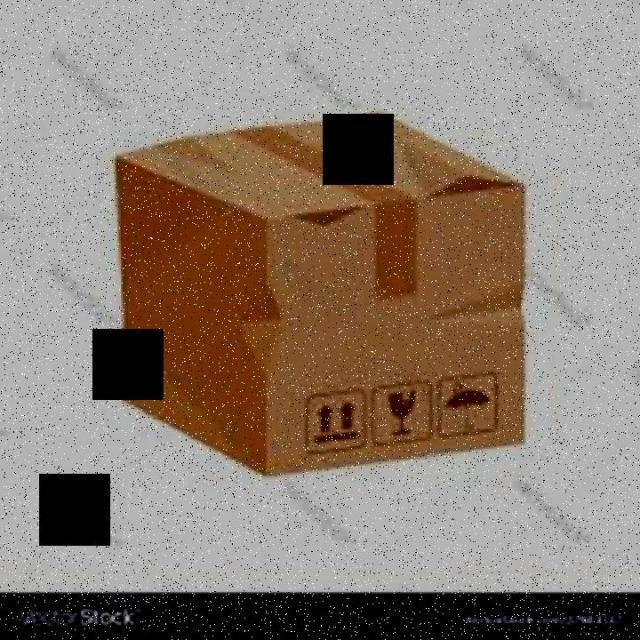box: (104, 104, 534, 487)
